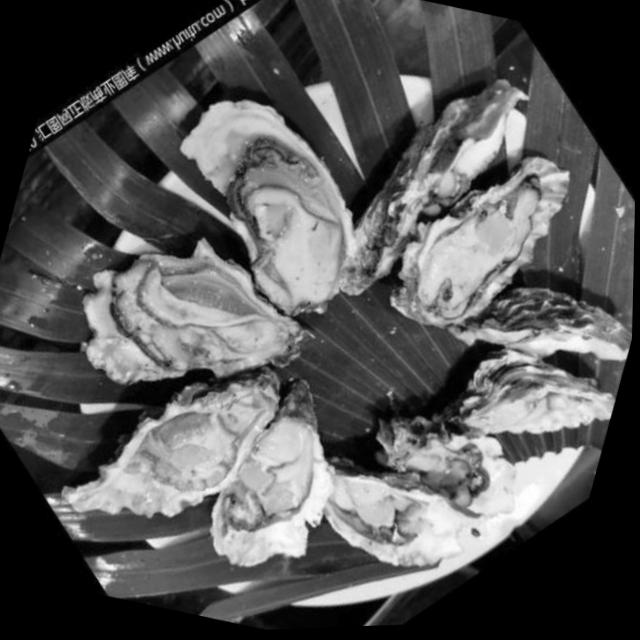Oyster-Open: (144, 86, 385, 329), (65, 214, 327, 427), (332, 52, 531, 325), (55, 329, 287, 552), (387, 128, 577, 351), (196, 361, 363, 583), (454, 285, 633, 463), (316, 451, 493, 587), (446, 266, 634, 383), (360, 407, 526, 525)
